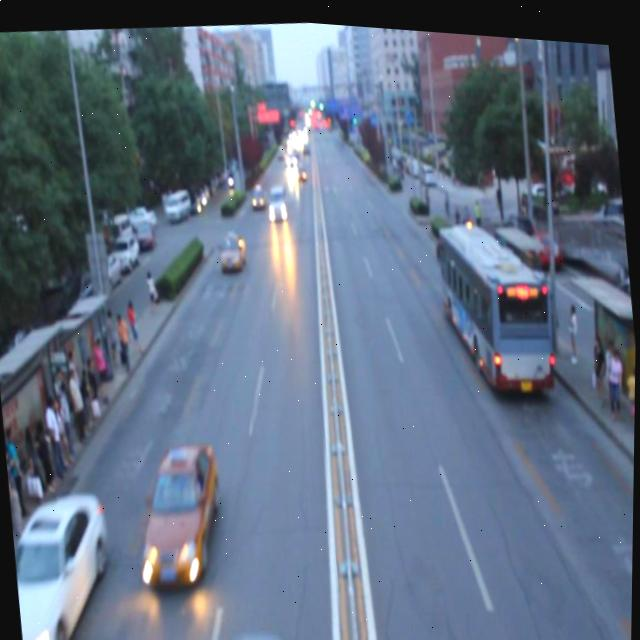car: (9, 486, 124, 640), (138, 430, 232, 596), (215, 218, 249, 276), (202, 619, 290, 640), (245, 174, 268, 210)
truck: (267, 179, 290, 226)
van: (432, 208, 556, 396)
